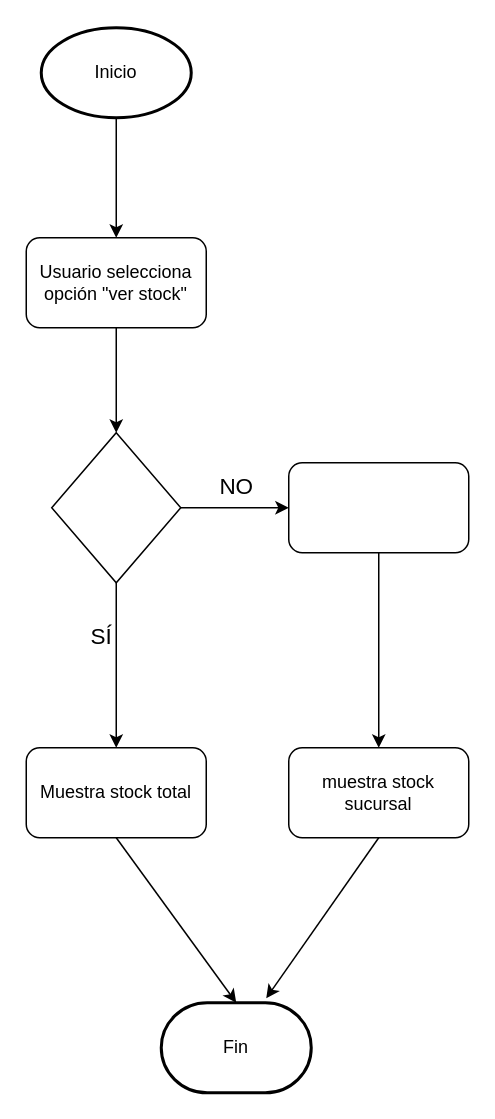
Some shapes in this 495 by 1119 pixel diagram are drawn without their labels. Each missing label, with the centre of its shape:
"De todas las sucursales?" goes at [115,507].
"seleccionar sucursal" goes at [378,507].
